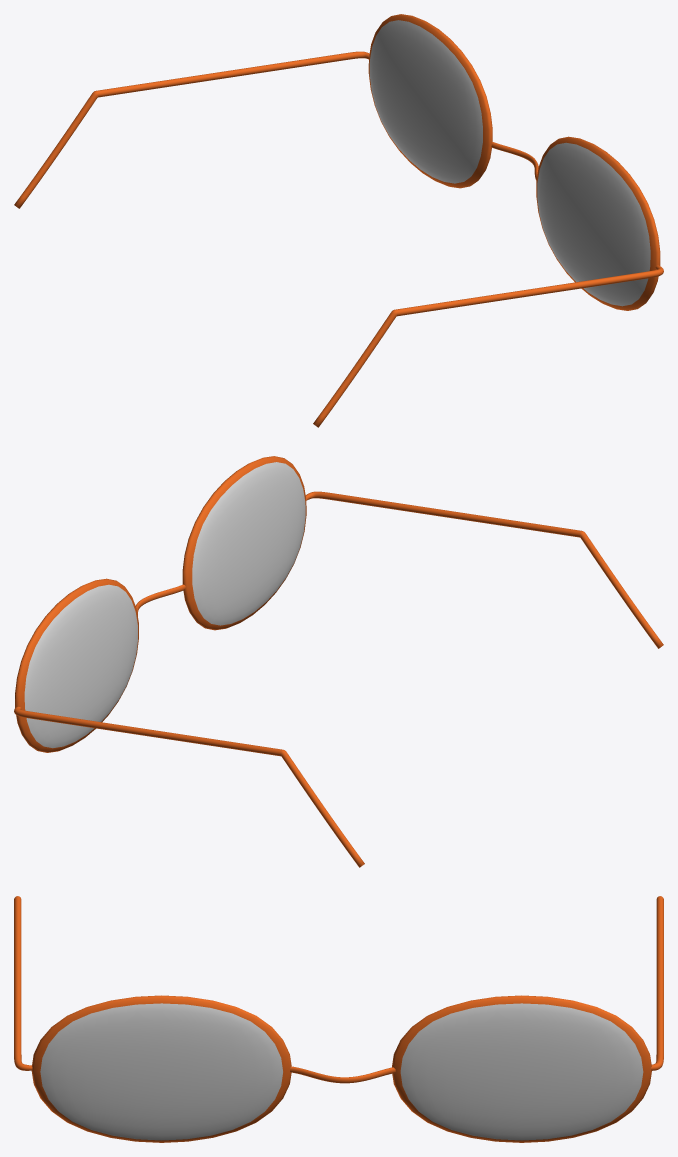
File: glasses.glb
The picture shows the model from 3 angles, top to bottom: view 1: azimuth 30°, elevation 25°; view 2: azimuth 150°, elevation 25°; view 3: azimuth 270°, elevation 25°; orthographic projection. The views are drawn at different scales.
Parts seen in each view (by area): view 1: NurbsPath.002; view 2: NurbsPath.002; view 3: NurbsPath.002.
Part boxes in pixels (x1,y1,x2,y2): NurbsPath.002: (14, 14, 663, 427); NurbsPath.002: (14, 456, 663, 867); NurbsPath.002: (14, 896, 663, 1142).
Size of the model in its own units: 3.3 by 1.21 by 4.66.
